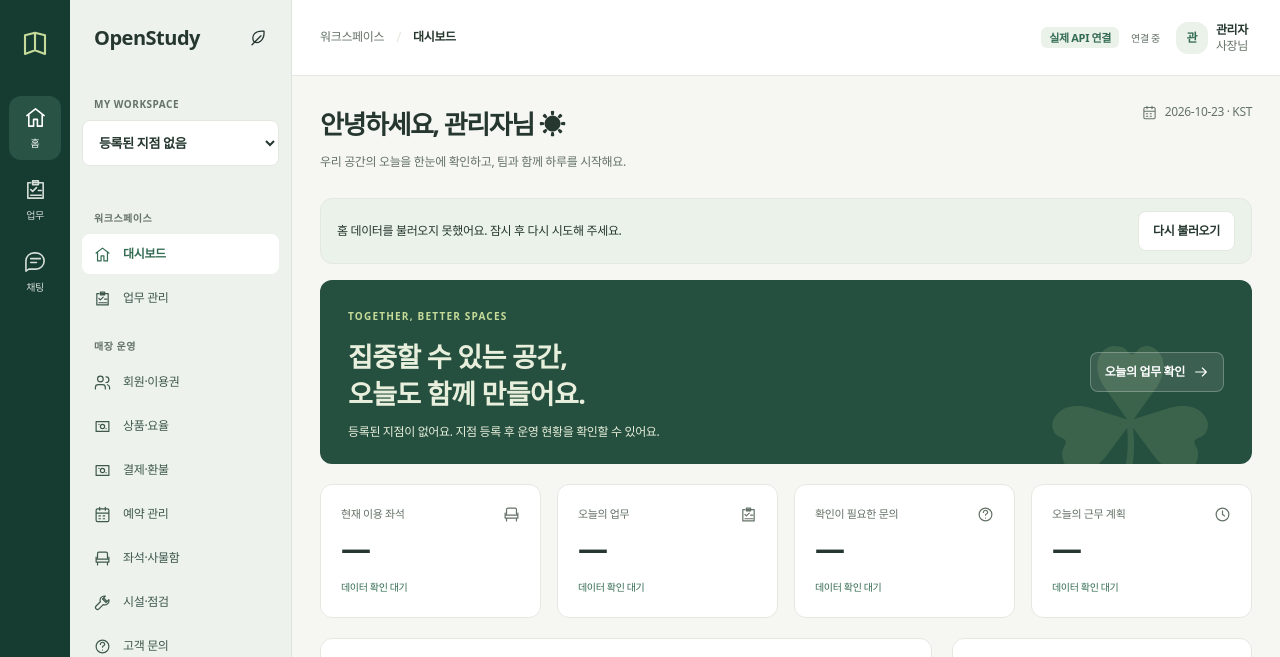
keeps the layout during loading and displays real data after retrying a failed request
This screenshot has width=1280, height=657.
expect the heading "안녕하세요, 관리자님 ☀" is shown: met, box [320,106,564,142]
Click the button with aria-label "홈 데이터 다시 불러오기": [1187, 231] box [1138,211,1235,251]
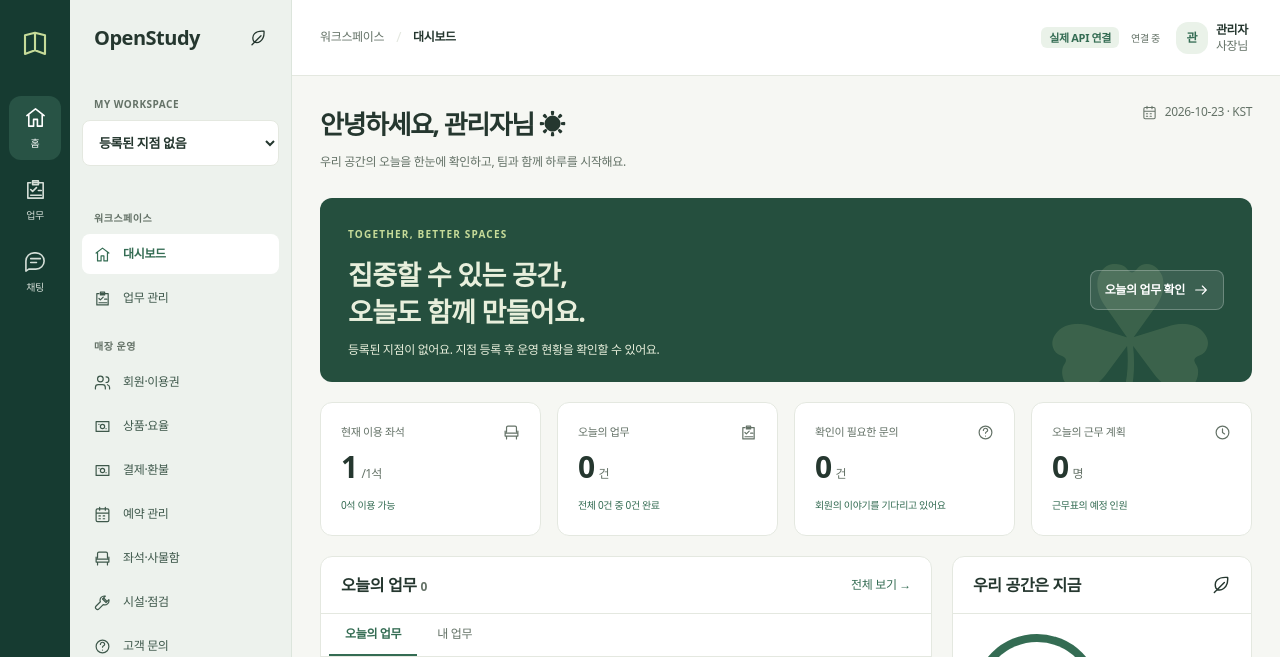
expect the text "0석 이용 가능" is shown: met, box [341,498,395,512]
expect the link "현재 이용 좌석 1/1석 0석 이용 가능" is shown: met, box [320,402,541,536]
